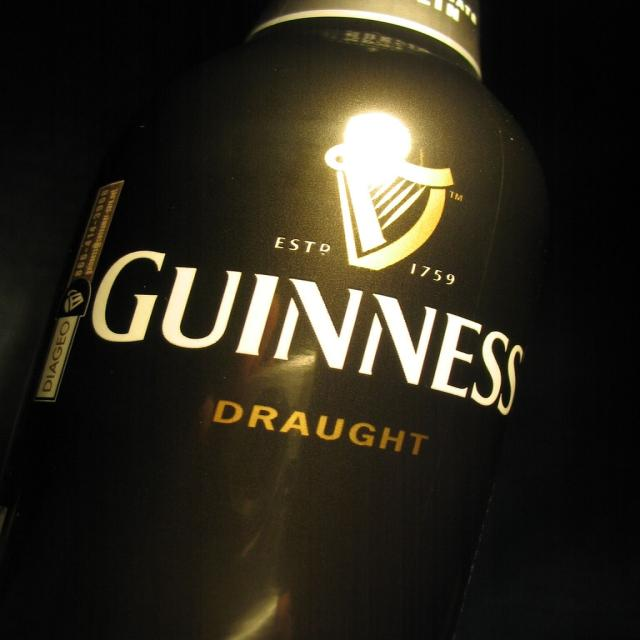guiness: (89, 139, 537, 417)
